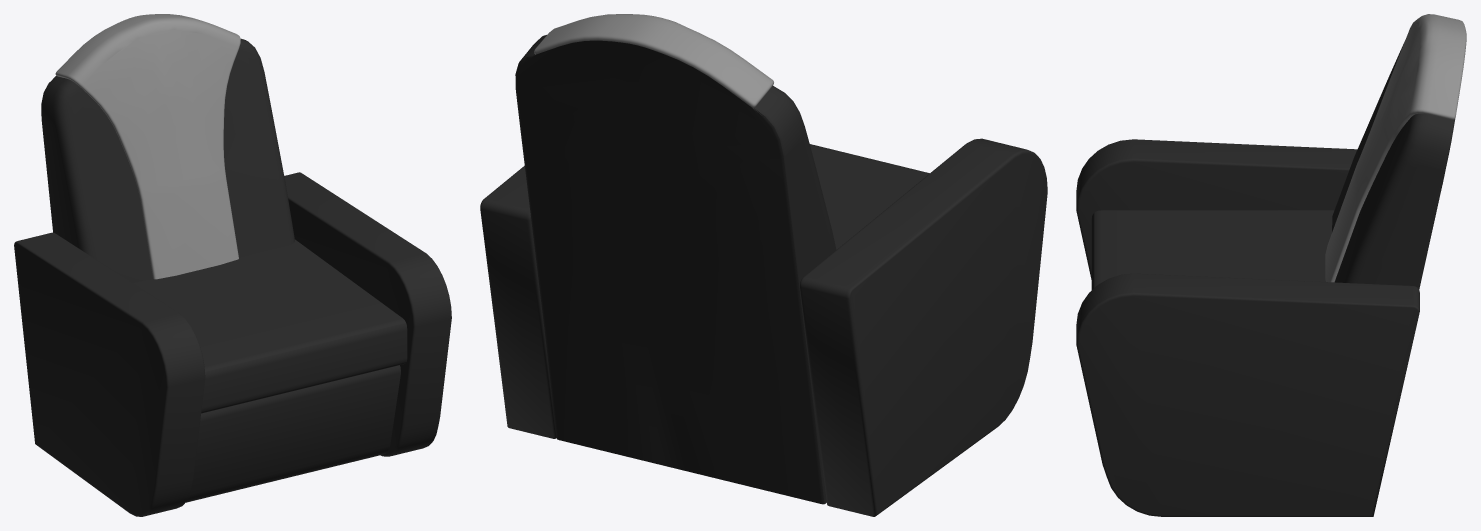
File: SciFiArmChair01.FBX
3 renders of one model, left to right at view 1: azimuth 30°, elevation 25°; view 2: azimuth 150°, elevation 25°; view 3: azimuth 270°, elevation 25°, orthographic. The views are drawn at different scales.
Parts seen in each view (by area): view 1: SciFiArmChair01; view 2: SciFiArmChair01; view 3: SciFiArmChair01.
Part boxes in pixels (left/top/right/bottom): SciFiArmChair01: left=14, top=14, right=451, bottom=516; SciFiArmChair01: left=480, top=14, right=1047, bottom=516; SciFiArmChair01: left=1076, top=14, right=1466, bottom=516.
Size of the model in its own units: 96 by 119 by 102.
